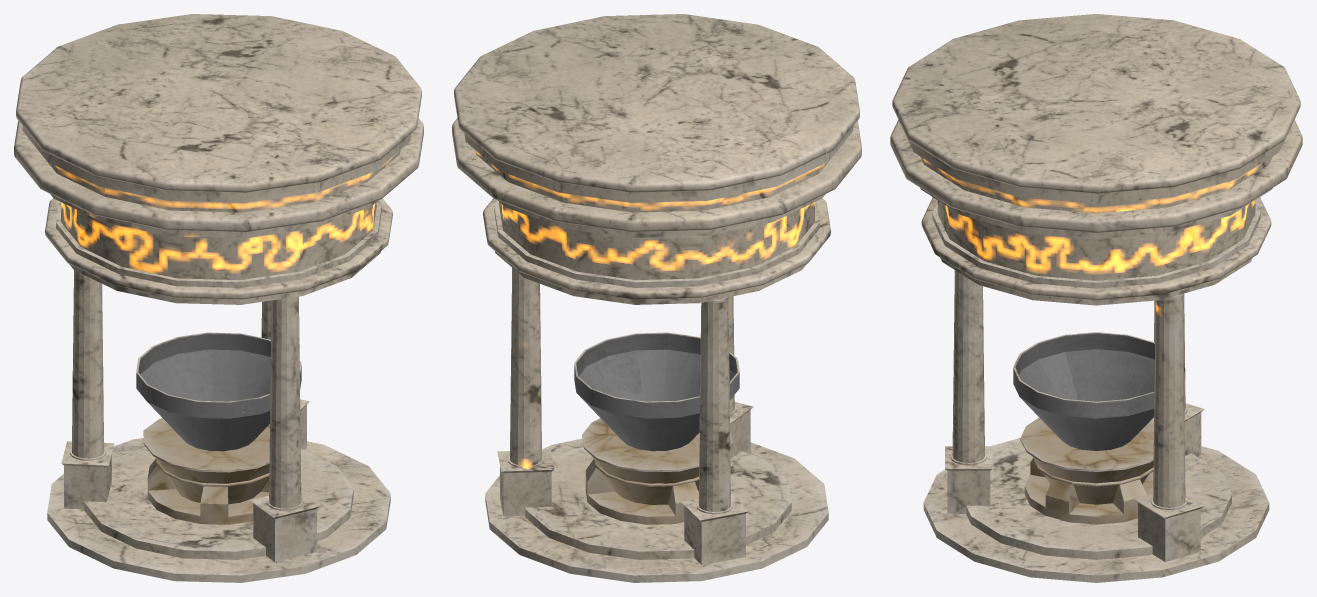
3 views of the same model, side by side, from view 1: azimuth 30°, elevation 25°; view 2: azimuth 150°, elevation 25°; view 3: azimuth 270°, elevation 25° (orthographic).
Parts seen in each view (by area): view 1: Ceiling, Floor, Brazier, Brazier Stand, Pillar 3, Pillar, Pillar Stand 3, Pillar Stand; view 2: Ceiling, Floor, Brazier, Brazier Stand, Pillar, Pillar 2, Pillar Stand, Pillar Stand 2, Pillar Stand 3; view 3: Ceiling, Floor, Brazier, Brazier Stand, Pillar 2, Pillar 3, Pillar Stand 2, Pillar Stand 3, Pillar Stand.
Part boxes in pixels (left/top/right/bottom): Ceiling: left=14, top=14, right=423, bottom=304; Floor: left=47, top=438, right=390, bottom=582; Brazier: left=136, top=332, right=301, bottom=451; Brazier Stand: left=143, top=418, right=269, bottom=524; Pillar 3: left=267, top=296, right=303, bottom=510; Pillar: left=70, top=270, right=105, bottom=460; Pillar Stand 3: left=250, top=492, right=319, bottom=561; Pillar Stand: left=61, top=441, right=114, bottom=509; Ceiling: left=452, top=14, right=861, bottom=304; Floor: left=485, top=438, right=828, bottom=582; Brazier: left=574, top=332, right=739, bottom=451; Brazier Stand: left=582, top=418, right=732, bottom=524; Pillar: left=696, top=297, right=732, bottom=514; Pillar 2: left=508, top=268, right=543, bottom=468; Pillar Stand: left=681, top=494, right=748, bottom=564; Pillar Stand 2: left=497, top=449, right=554, bottom=516; Pillar Stand 3: left=730, top=402, right=753, bottom=458; Ceiling: left=890, top=14, right=1302, bottom=305; Floor: left=923, top=438, right=1269, bottom=582; Brazier: left=1013, top=332, right=1154, bottom=450; Brazier Stand: left=1020, top=417, right=1153, bottom=524; Pillar 2: left=1151, top=293, right=1187, bottom=510; Pillar 3: left=950, top=270, right=986, bottom=465; Pillar Stand 2: left=1135, top=494, right=1203, bottom=561; Pillar Stand 3: left=945, top=446, right=992, bottom=513; Pillar Stand: left=1184, top=403, right=1204, bottom=456.
Bounding box in the file's own units: 5.75 × 6.32 × 5.75.
1 material, 1 textured.
